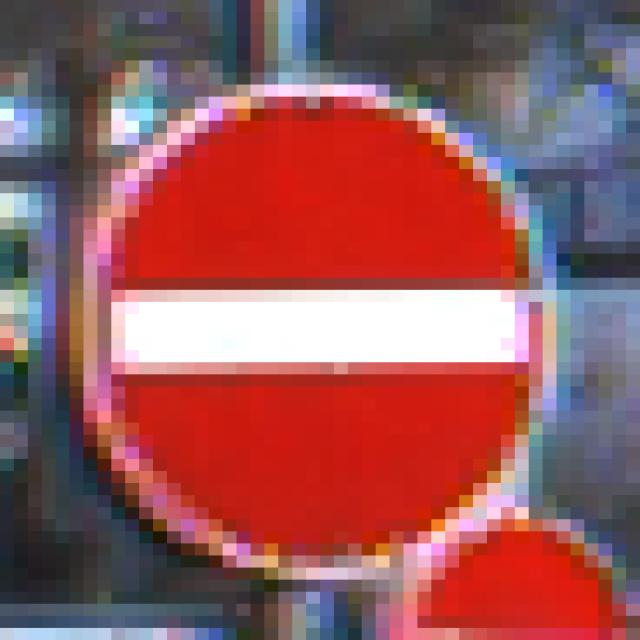No Entry: (85, 62, 572, 581)
